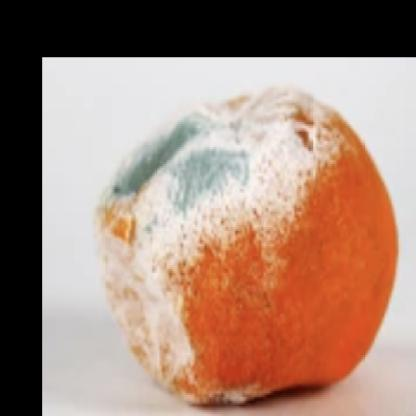rotten: (101, 82, 402, 416)
